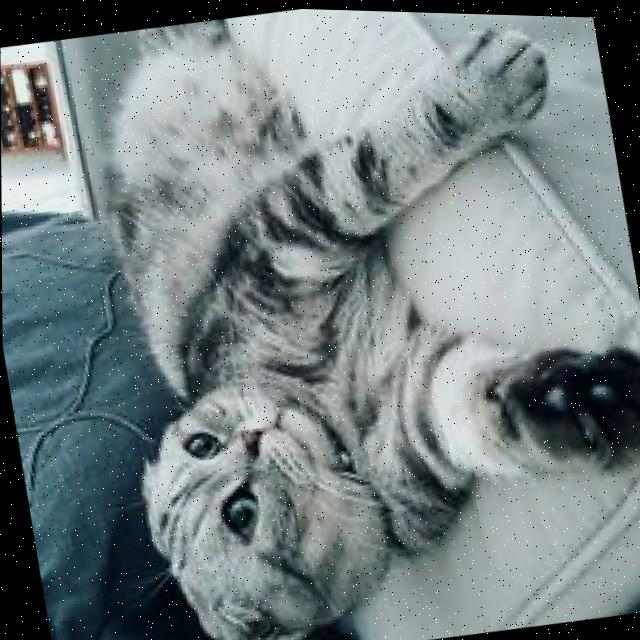Scottish Fold: (54, 1, 640, 640)
